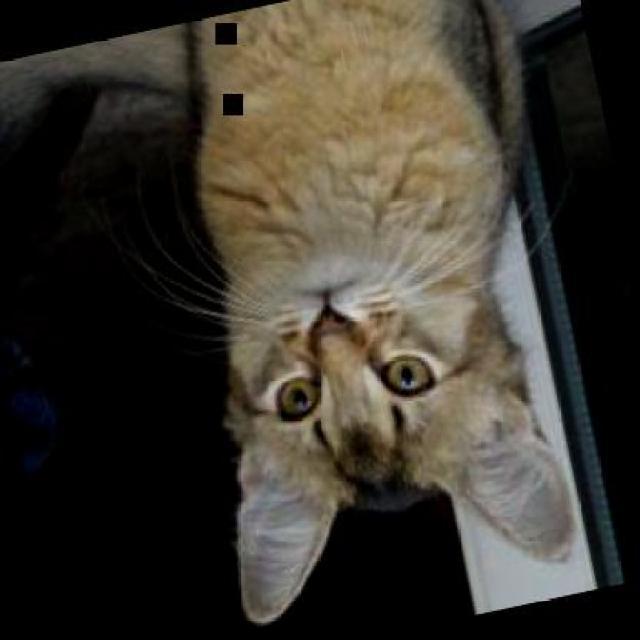cat: (117, 0, 620, 632)
